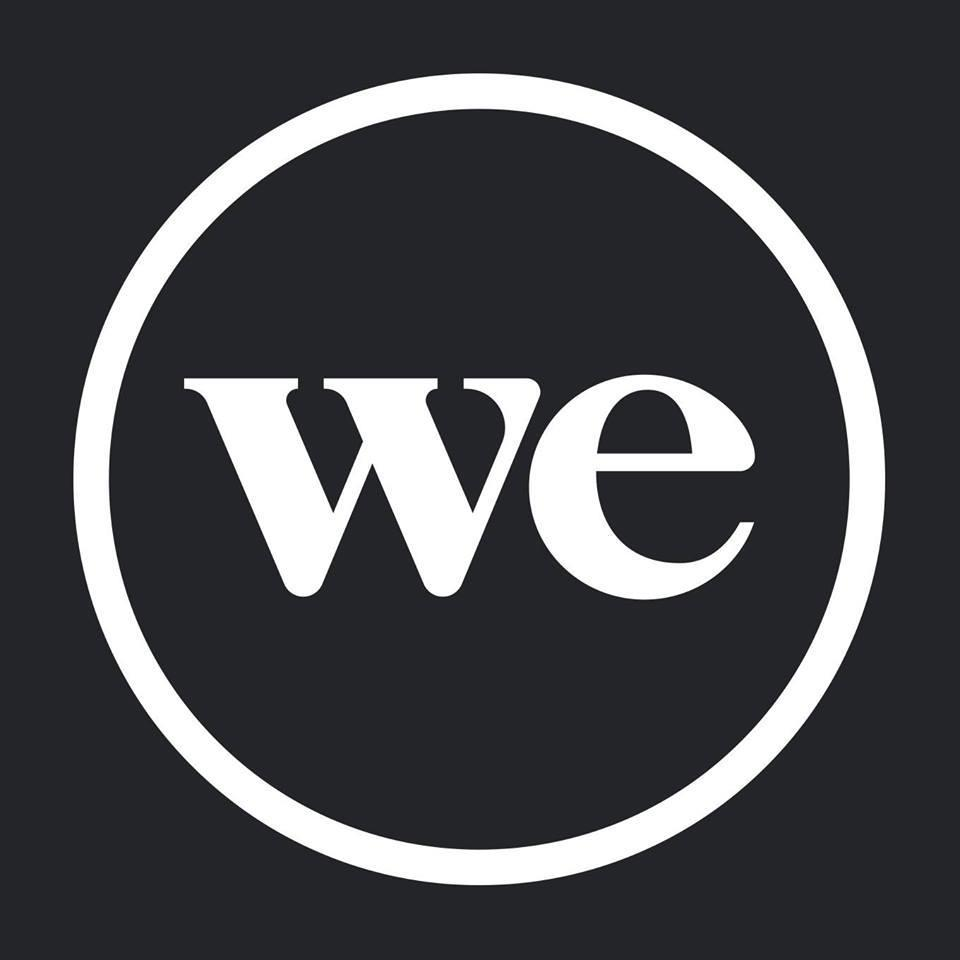wework: (59, 65, 899, 896)
